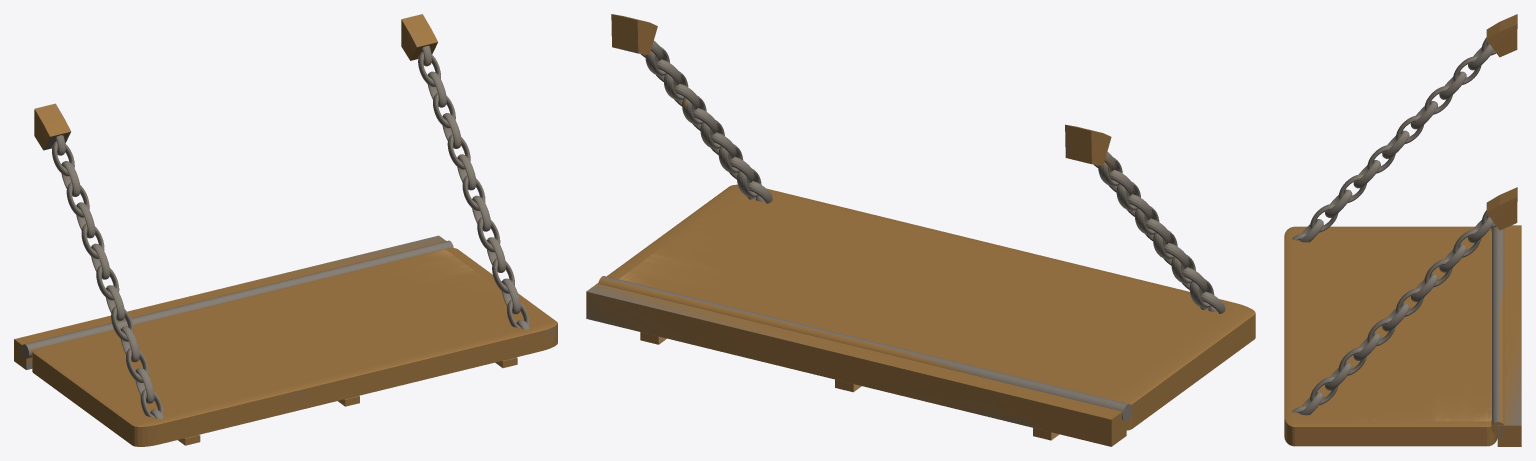
Rendered from Bed.fbx.
The picture shows the model from 3 angles, left to right: view 1: azimuth 30°, elevation 25°; view 2: azimuth 150°, elevation 25°; view 3: azimuth 270°, elevation 25°; orthographic projection. The views are drawn at different scales.
Parts seen in each view (by area): view 1: bed; view 2: bed; view 3: bed.
Part boxes in pixels (x1,y1,x2,y2): bed: (14, 14, 557, 446); bed: (586, 14, 1255, 446); bed: (1284, 14, 1521, 446).
Bounding box in the file's own units: 402 × 230 × 200.
